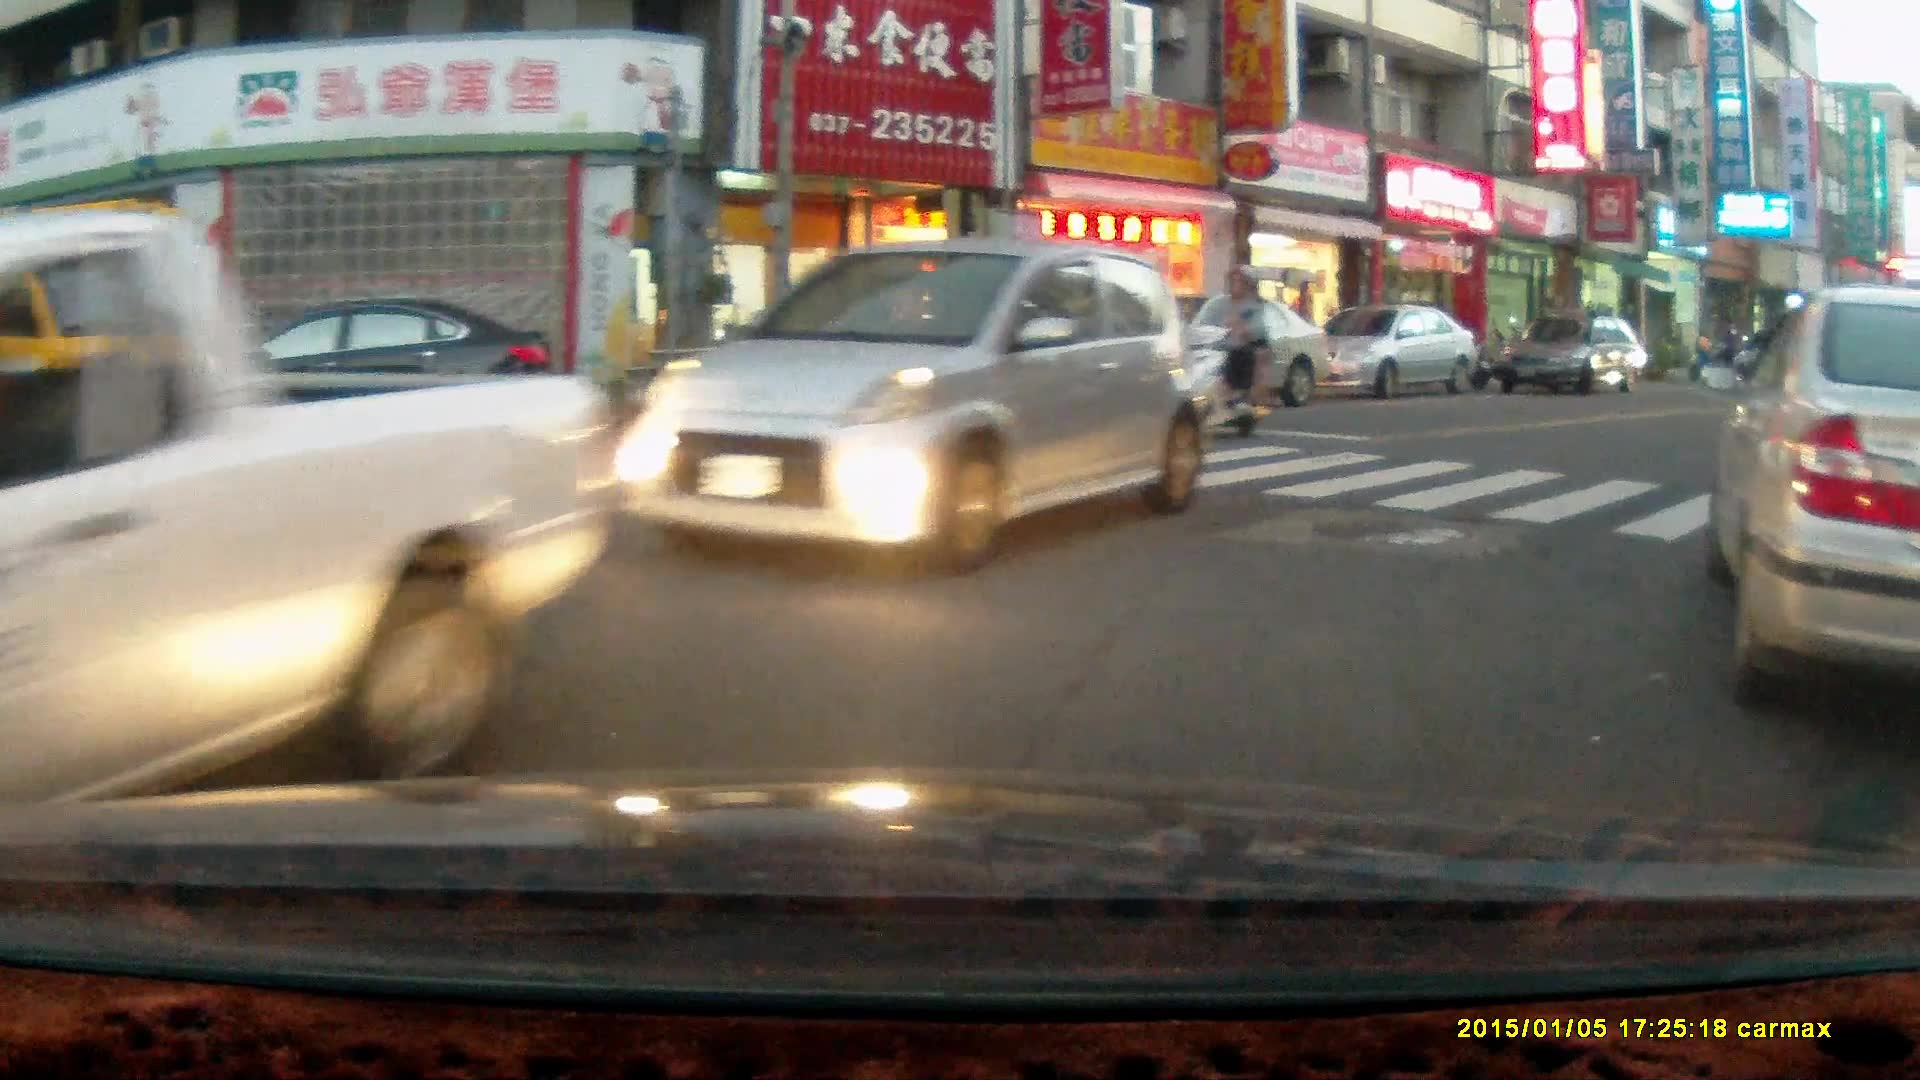rider: (1160, 259, 1273, 443)
vehicle: (1, 251, 624, 822), (605, 242, 1215, 573), (1706, 282, 1920, 729), (222, 292, 556, 445), (1129, 293, 1325, 413), (1305, 305, 1478, 398), (1492, 316, 1652, 397)
